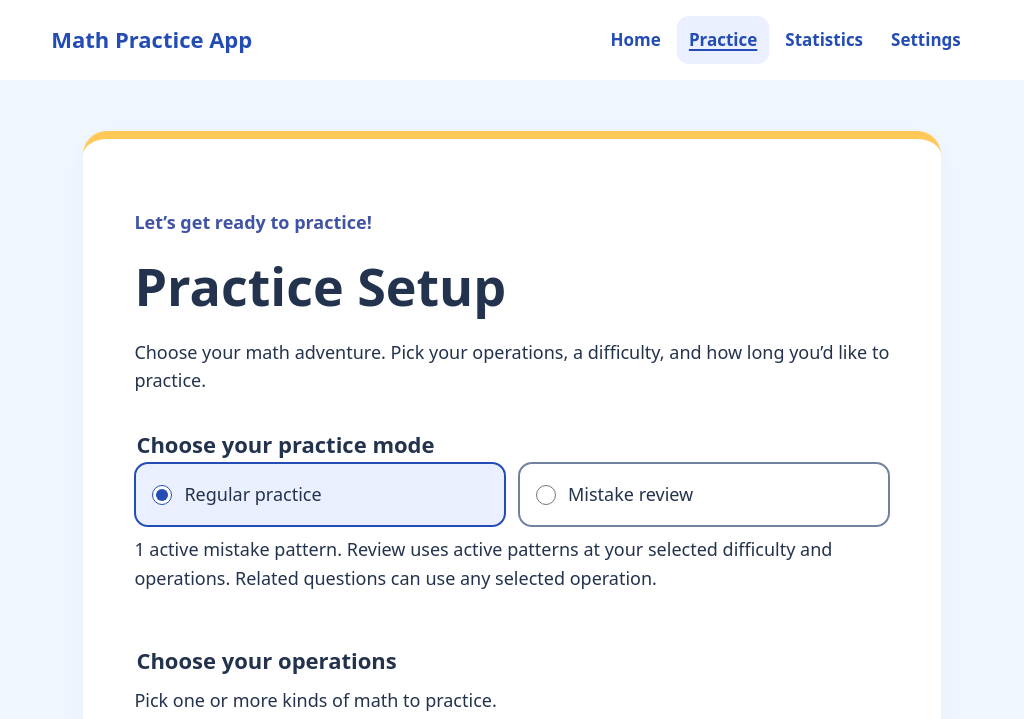
Test case: mistake-review interface › offers review from regular setup, chooses suitable difficulty and validates empty filters
Click the radio button labelled "Mistake review" at [546, 495], box [536,485,556,505]
(page scrolled)
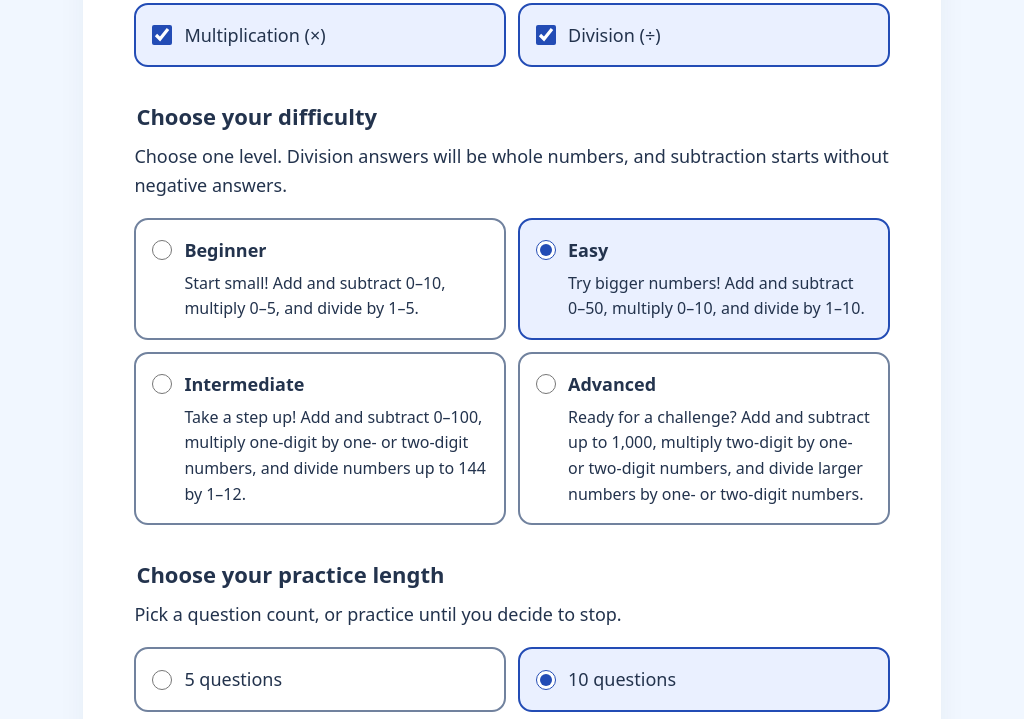
Check: the radio button labelled "Easy" is checked, box [536,240,556,260]
Click the radio button labelled "Advanced" at [546, 384], box [536,374,556,394]
(page scrolled)
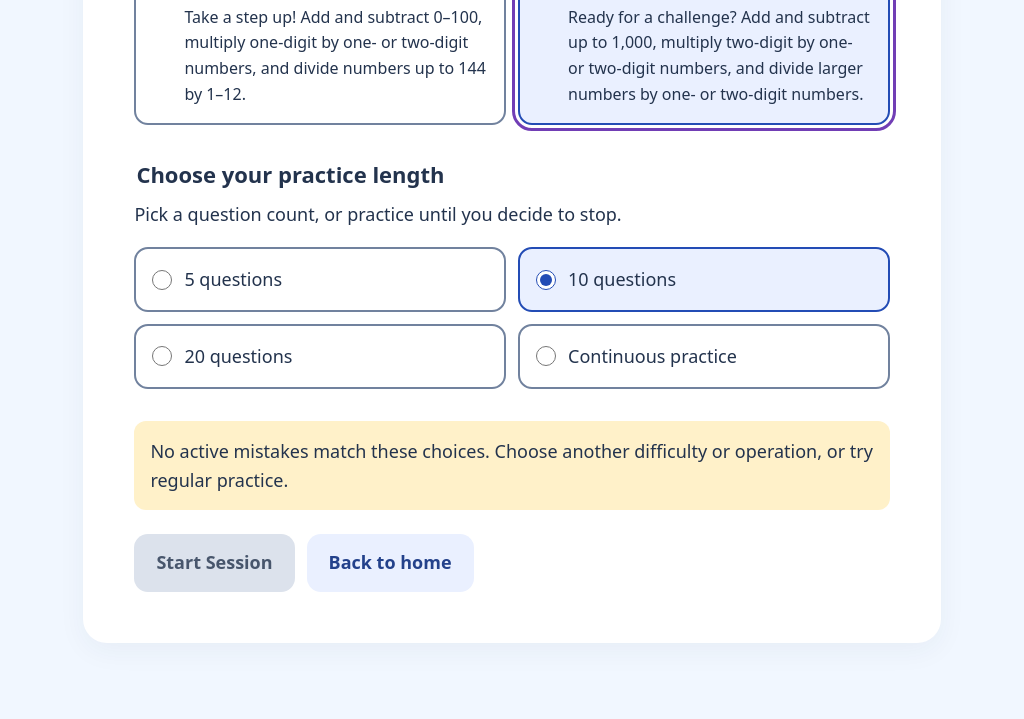
Check: the button "Start Session" is disabled, box [134,534,295,592]
Check: the message shows "No active mistakes match", box [150,439,873,492]
